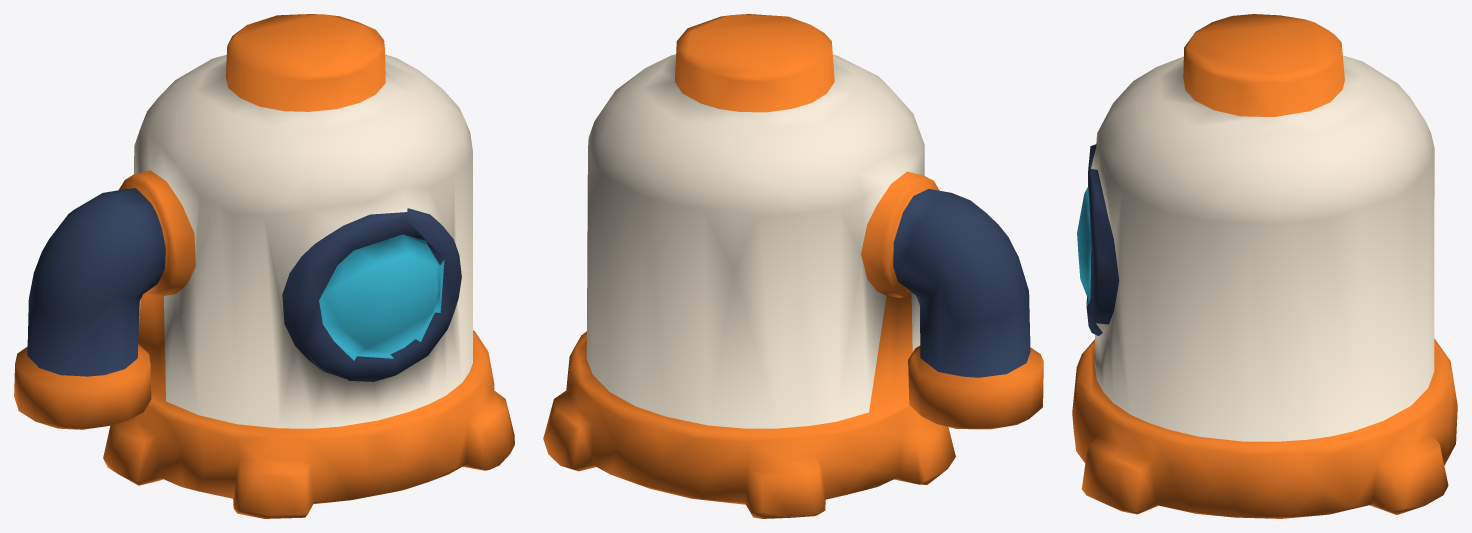
Rendered from rounded-utility-tank_LOD1.glb.
3 renders of one model, left to right at view 1: azimuth 30°, elevation 25°; view 2: azimuth 150°, elevation 25°; view 3: azimuth 270°, elevation 25°, orthographic. The views are drawn at different scales.
Visible parts, largest first — view 1: rounded-utility-tank_LOD1; view 2: rounded-utility-tank_LOD1; view 3: rounded-utility-tank_LOD1.
Part boxes in pixels (x1,y1,x2,y2): rounded-utility-tank_LOD1: (14,14,514,518); rounded-utility-tank_LOD1: (543,14,1043,518); rounded-utility-tank_LOD1: (1072,14,1457,518).
Size of the model in its own units: 1.43 by 1.2 by 1.05.
1 material, 1 textured.
